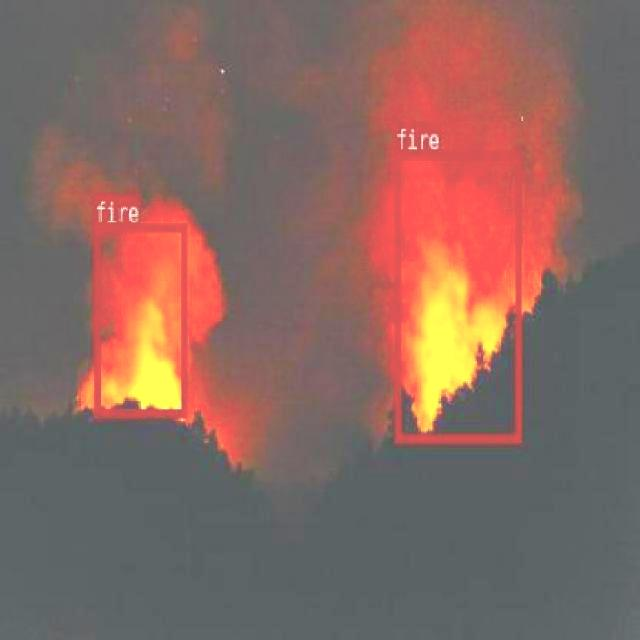fire: (393, 149, 521, 442), (92, 222, 186, 416)
